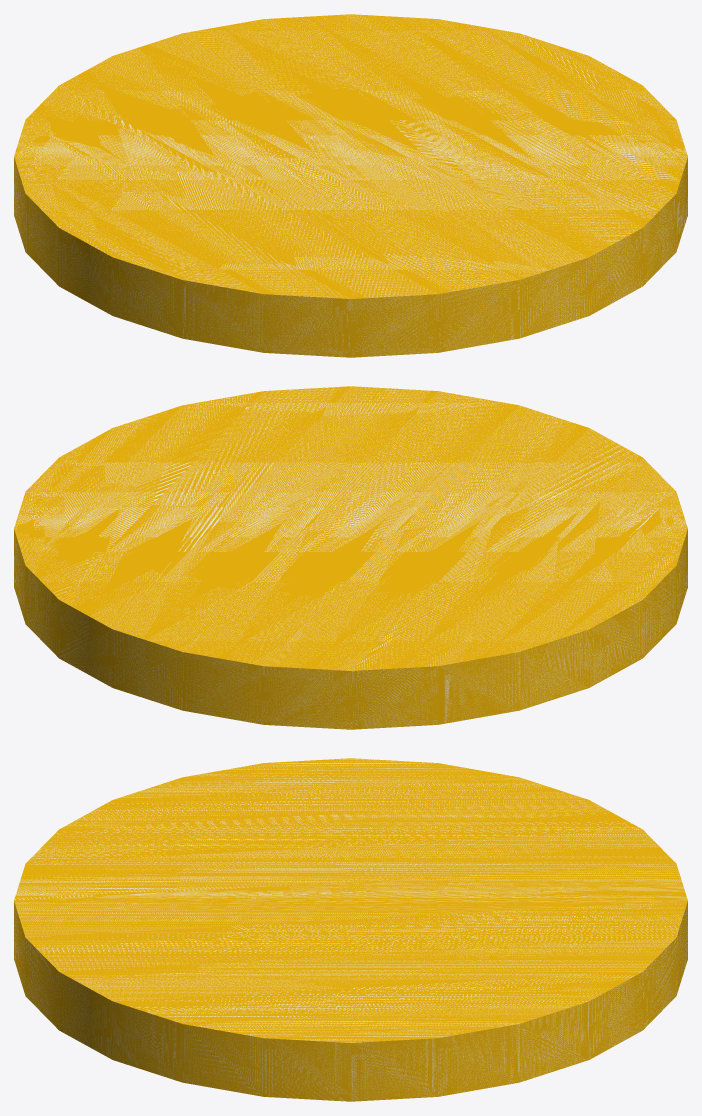
File: original-72.obj
3 views of the same model, one above another, from view 1: azimuth 30°, elevation 25°; view 2: azimuth 150°, elevation 25°; view 3: azimuth 270°, elevation 25° (orthographic).
Parts seen in each view (by area): view 1: mesh12/mesh12-geometry#mesh12-geometry; view 2: mesh12/mesh12-geometry#mesh12-geometry; view 3: mesh12/mesh12-geometry#mesh12-geometry.
Part boxes in pixels (<box>): mesh12/mesh12-geometry#mesh12-geometry: <box>14,14,687,357</box>; mesh12/mesh12-geometry#mesh12-geometry: <box>14,386,687,729</box>; mesh12/mesh12-geometry#mesh12-geometry: <box>14,758,687,1101</box>.
Size of the model in its own units: 0.0742 by 0.00712 by 0.0742.
